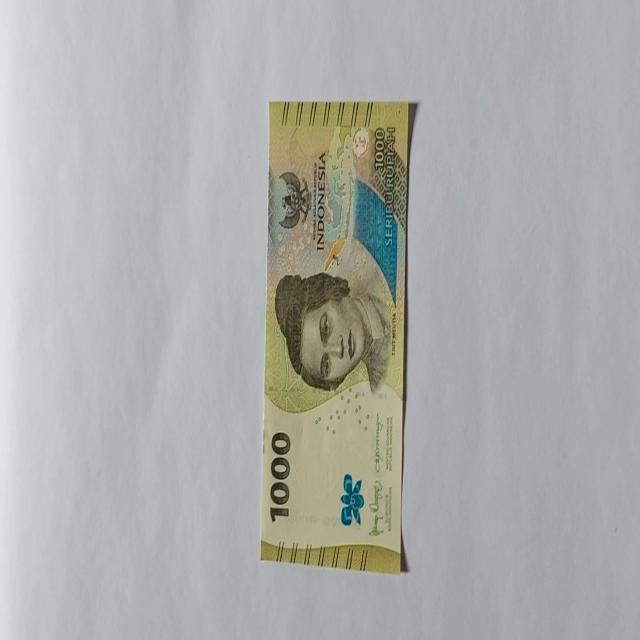seribu rupiah kertas: (260, 100, 413, 574)
